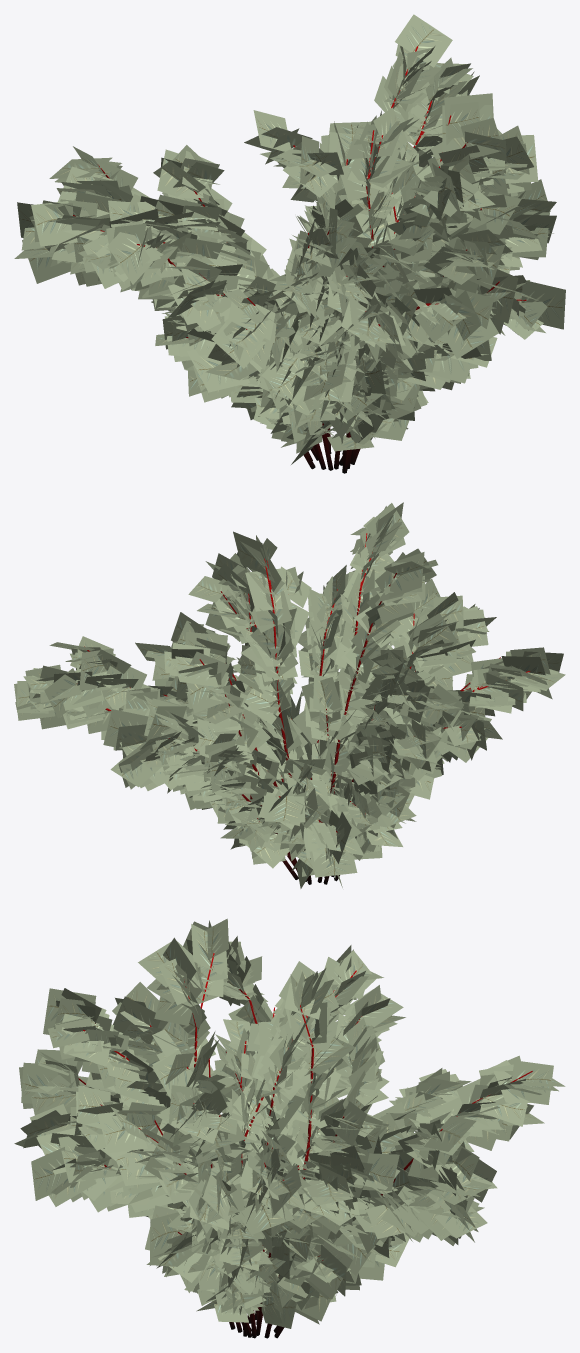
The model's file is willow_shrub_v02_LOD1.fbx.
3 views of the same model, one above another, from view 1: azimuth 30°, elevation 25°; view 2: azimuth 150°, elevation 25°; view 3: azimuth 270°, elevation 25° (orthographic). The views are drawn at different scales.
Visible parts, largest first — view 1: willow_shrub_v02_LOD1; view 2: willow_shrub_v02_LOD1; view 3: willow_shrub_v02_LOD1.
Boxes of the visible parts, <box> form: willow_shrub_v02_LOD1: <box>14,14,565,473</box>; willow_shrub_v02_LOD1: <box>14,502,565,888</box>; willow_shrub_v02_LOD1: <box>14,918,565,1338</box>.
Bounding box in the file's own units: 590 × 420 × 571.
